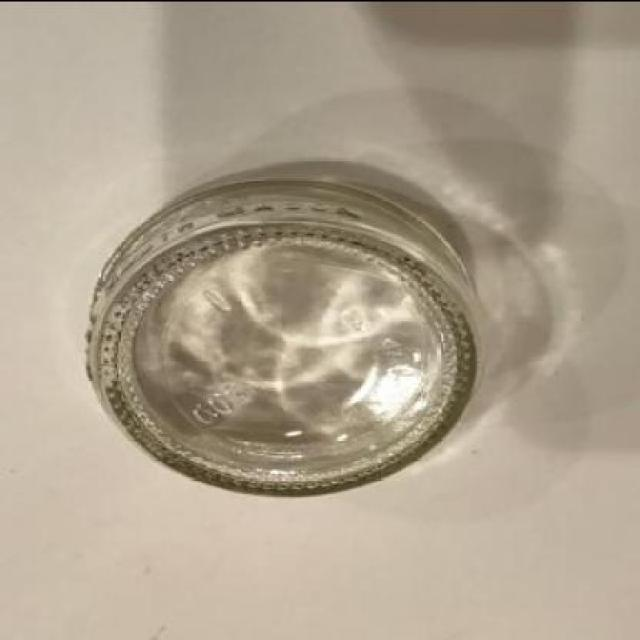glass: (84, 180, 476, 495)
